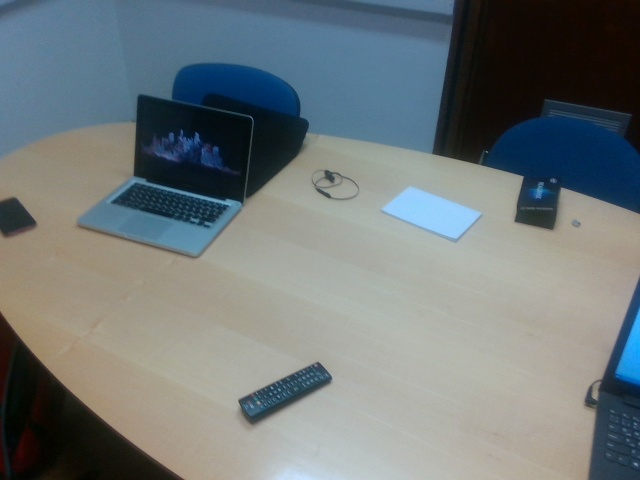remote: (237, 362, 334, 424)
